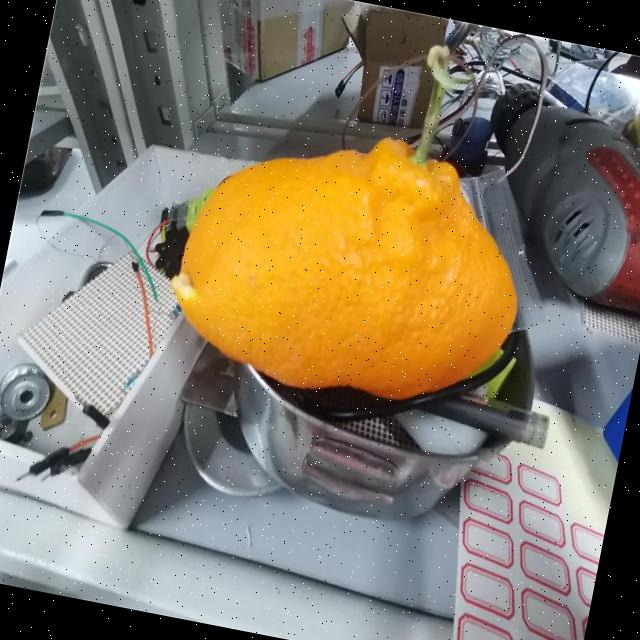orange-peel: (154, 100, 546, 426)
